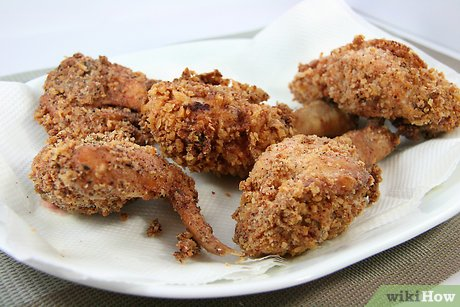Ayam: (25, 135, 228, 257), (235, 122, 393, 252), (154, 72, 357, 160), (289, 44, 458, 137)
